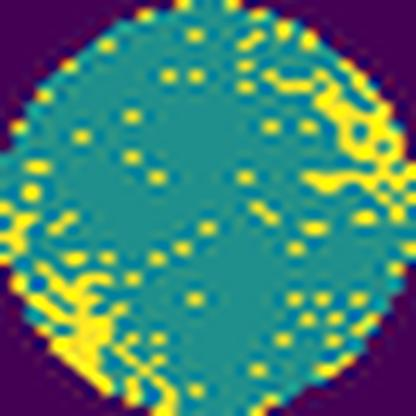Edge-Loc: (0, 197, 123, 403), (292, 63, 416, 215)
